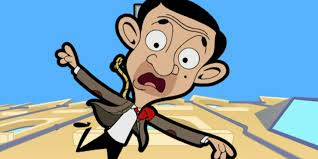mrbean: (54, 1, 237, 159)
